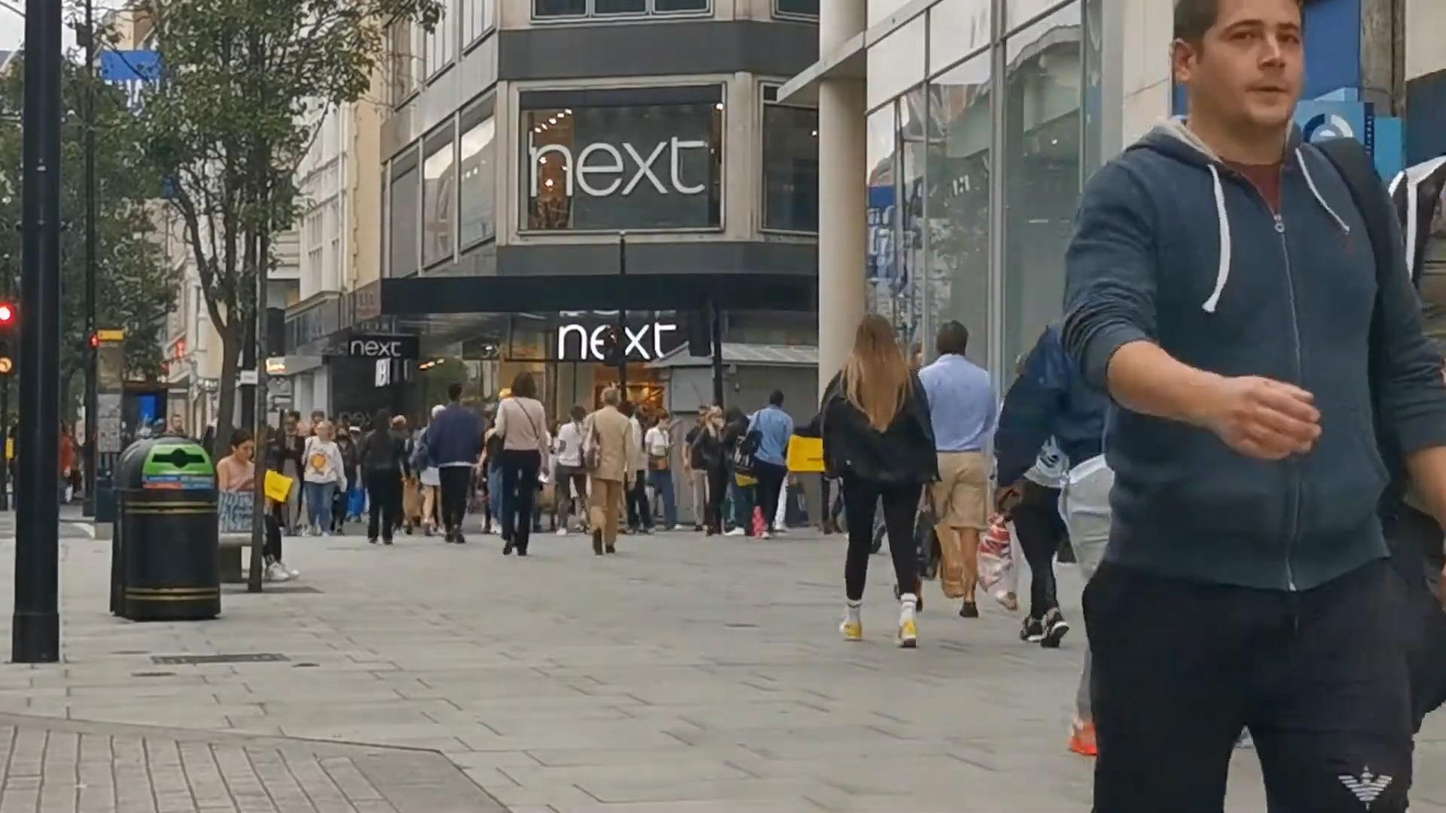no-helmet: (1170, 0, 1305, 131), (852, 313, 902, 362), (937, 319, 968, 357), (231, 428, 254, 463), (511, 372, 536, 399), (601, 387, 621, 409), (769, 390, 784, 408)
